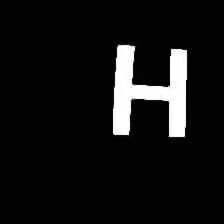LTR_H: (101, 23, 196, 149)
